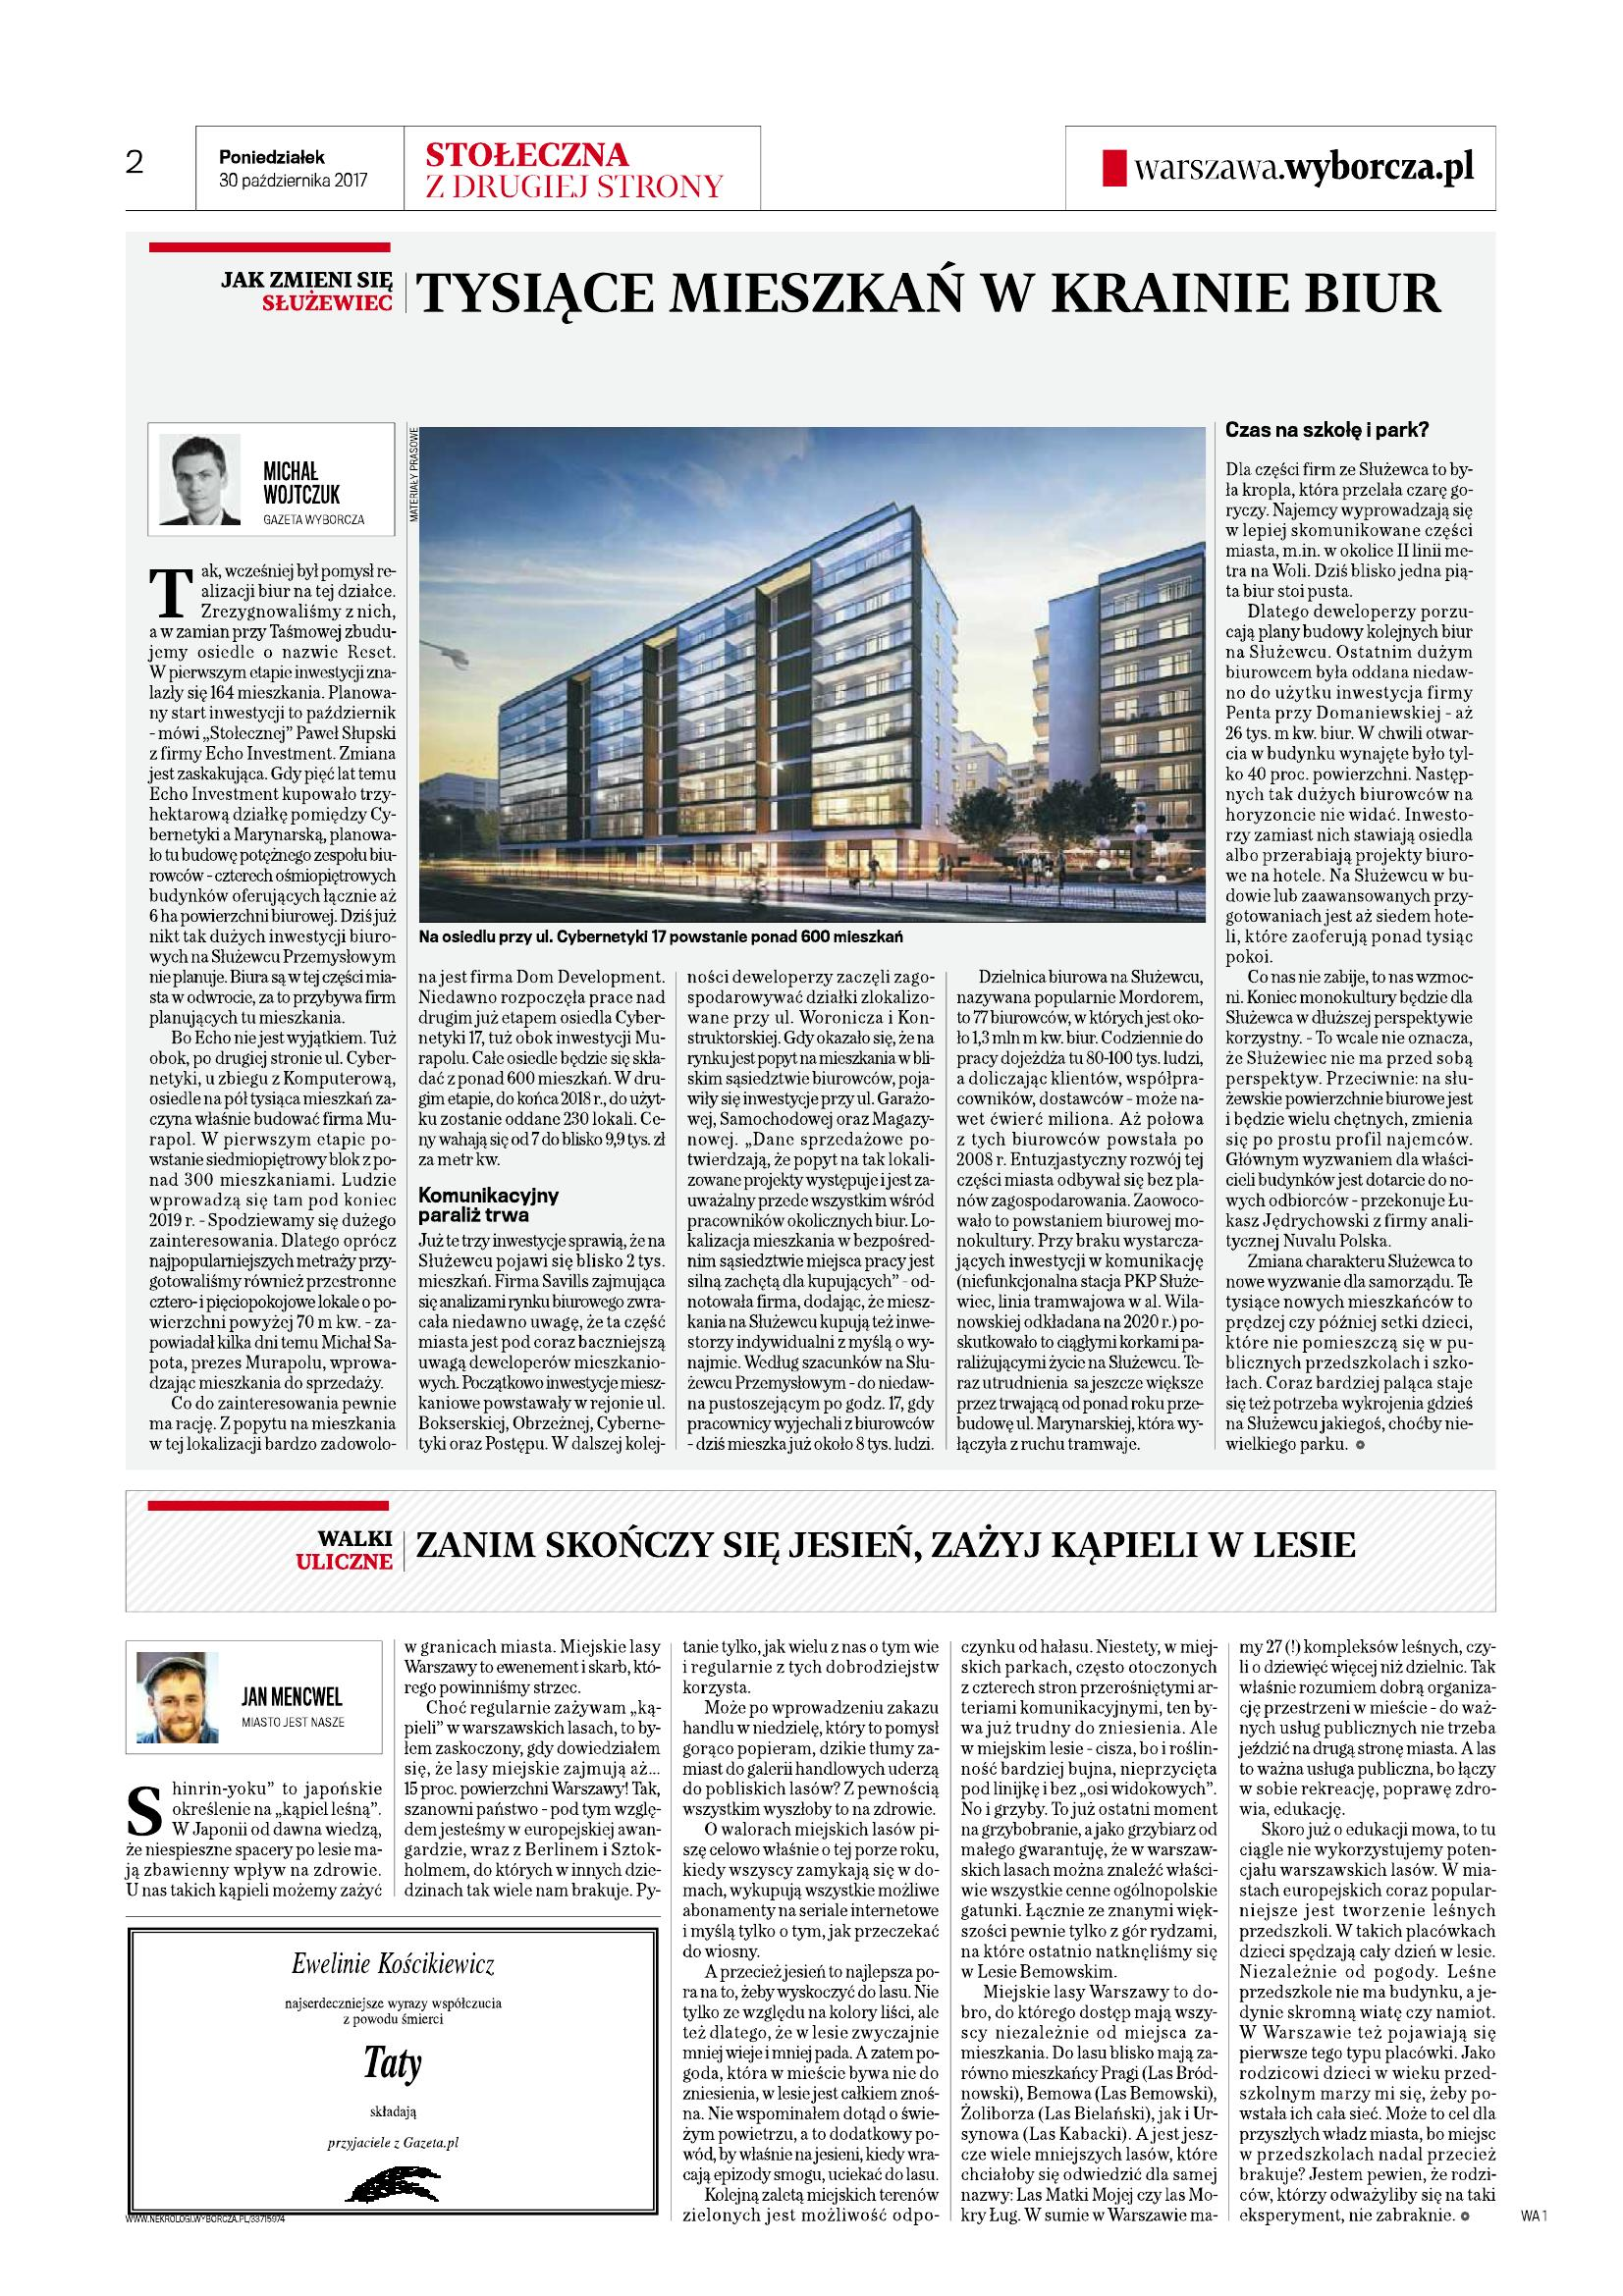article: (137, 235, 1488, 1460), (119, 1480, 1505, 2238)
